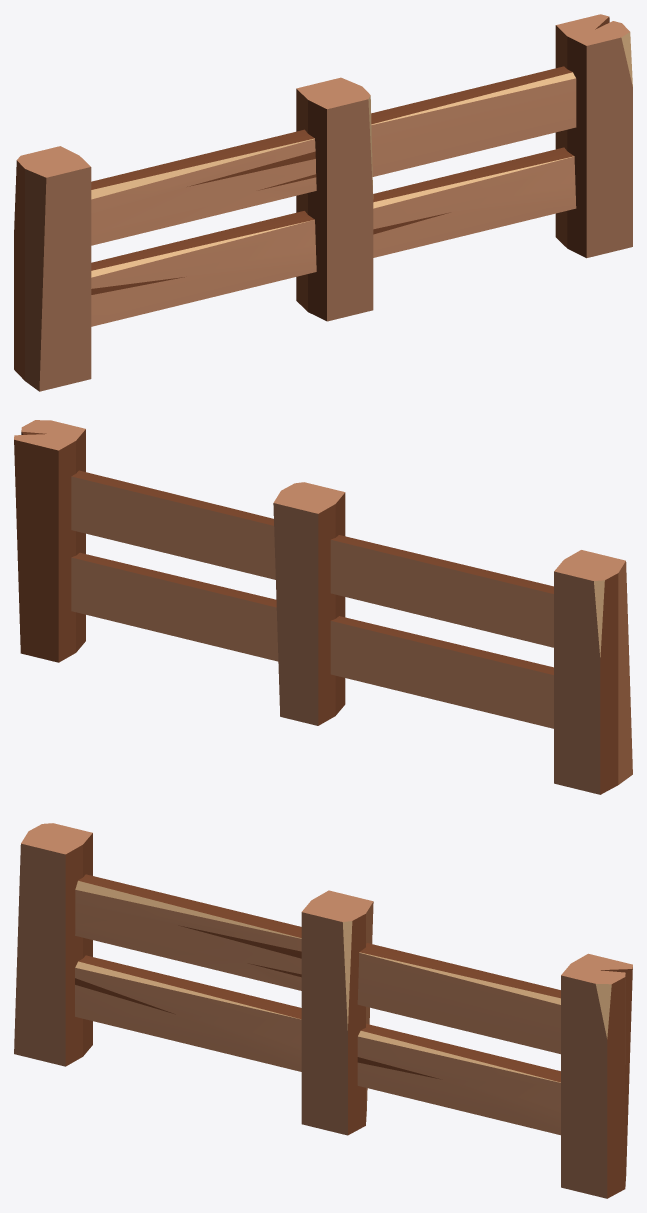
The model's file is fence.fbx.
3 views of the same model, one above another, from view 1: azimuth 30°, elevation 25°; view 2: azimuth 150°, elevation 25°; view 3: azimuth 330°, elevation 25° (orthographic).
Visible parts, largest first — view 1: fence; view 2: fence; view 3: fence.
Boxes of the visible parts, x1=… form: fence: x1=14, y1=14, x2=632, y2=391; fence: x1=14, y1=420, x2=632, y2=794; fence: x1=14, y1=823, x2=632, y2=1198.
Size of the model in its own units: 421 by 143 by 35.45.
